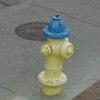Hydrant: (31, 8, 85, 100)
